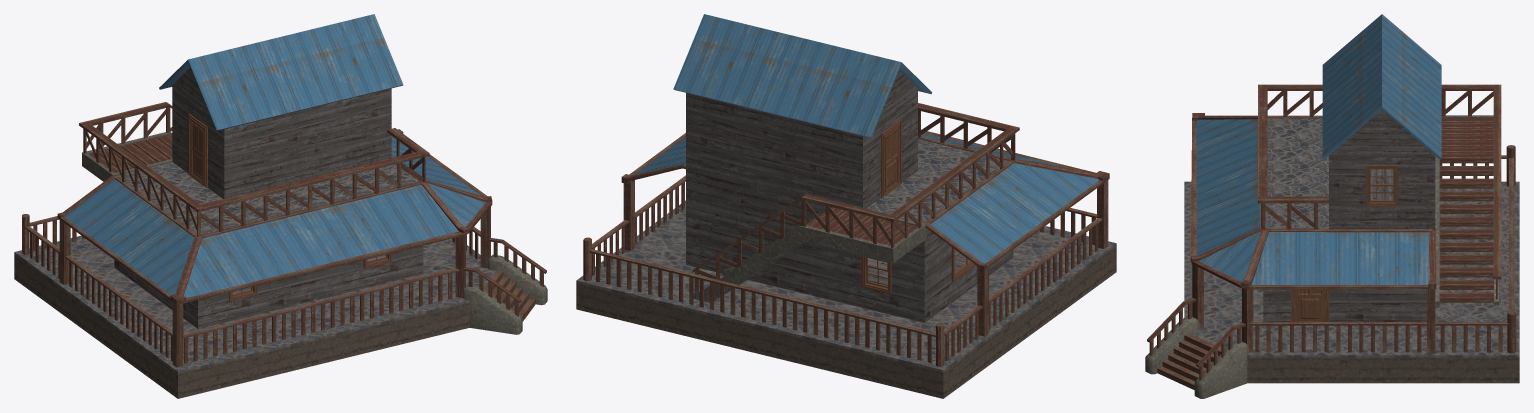
Rendered from Cabin_b45aa5ff.glb.
The picture shows the model from 3 angles, left to right: view 1: azimuth 30°, elevation 25°; view 2: azimuth 150°, elevation 25°; view 3: azimuth 270°, elevation 25°; orthographic projection. The views are drawn at different scales.
Parts seen in each view (by area): view 1: house_Material.008_0, door02_Material.008_0; view 2: house_Material.008_0, door02_Material.008_0; view 3: house_Material.008_0, door01_Material.008_0.
Boxes of the visible parts, box(x1,y1,x2,y2) form: house_Material.008_0: box(14, 14, 547, 398); door02_Material.008_0: box(189, 117, 205, 185); house_Material.008_0: box(576, 14, 1116, 398); door02_Material.008_0: box(883, 123, 900, 195); house_Material.008_0: box(1145, 14, 1519, 398); door01_Material.008_0: box(1294, 289, 1326, 321).
Bounding box in the file's own units: 7.8 × 4.8 × 6.53.
1 material, 1 textured.
